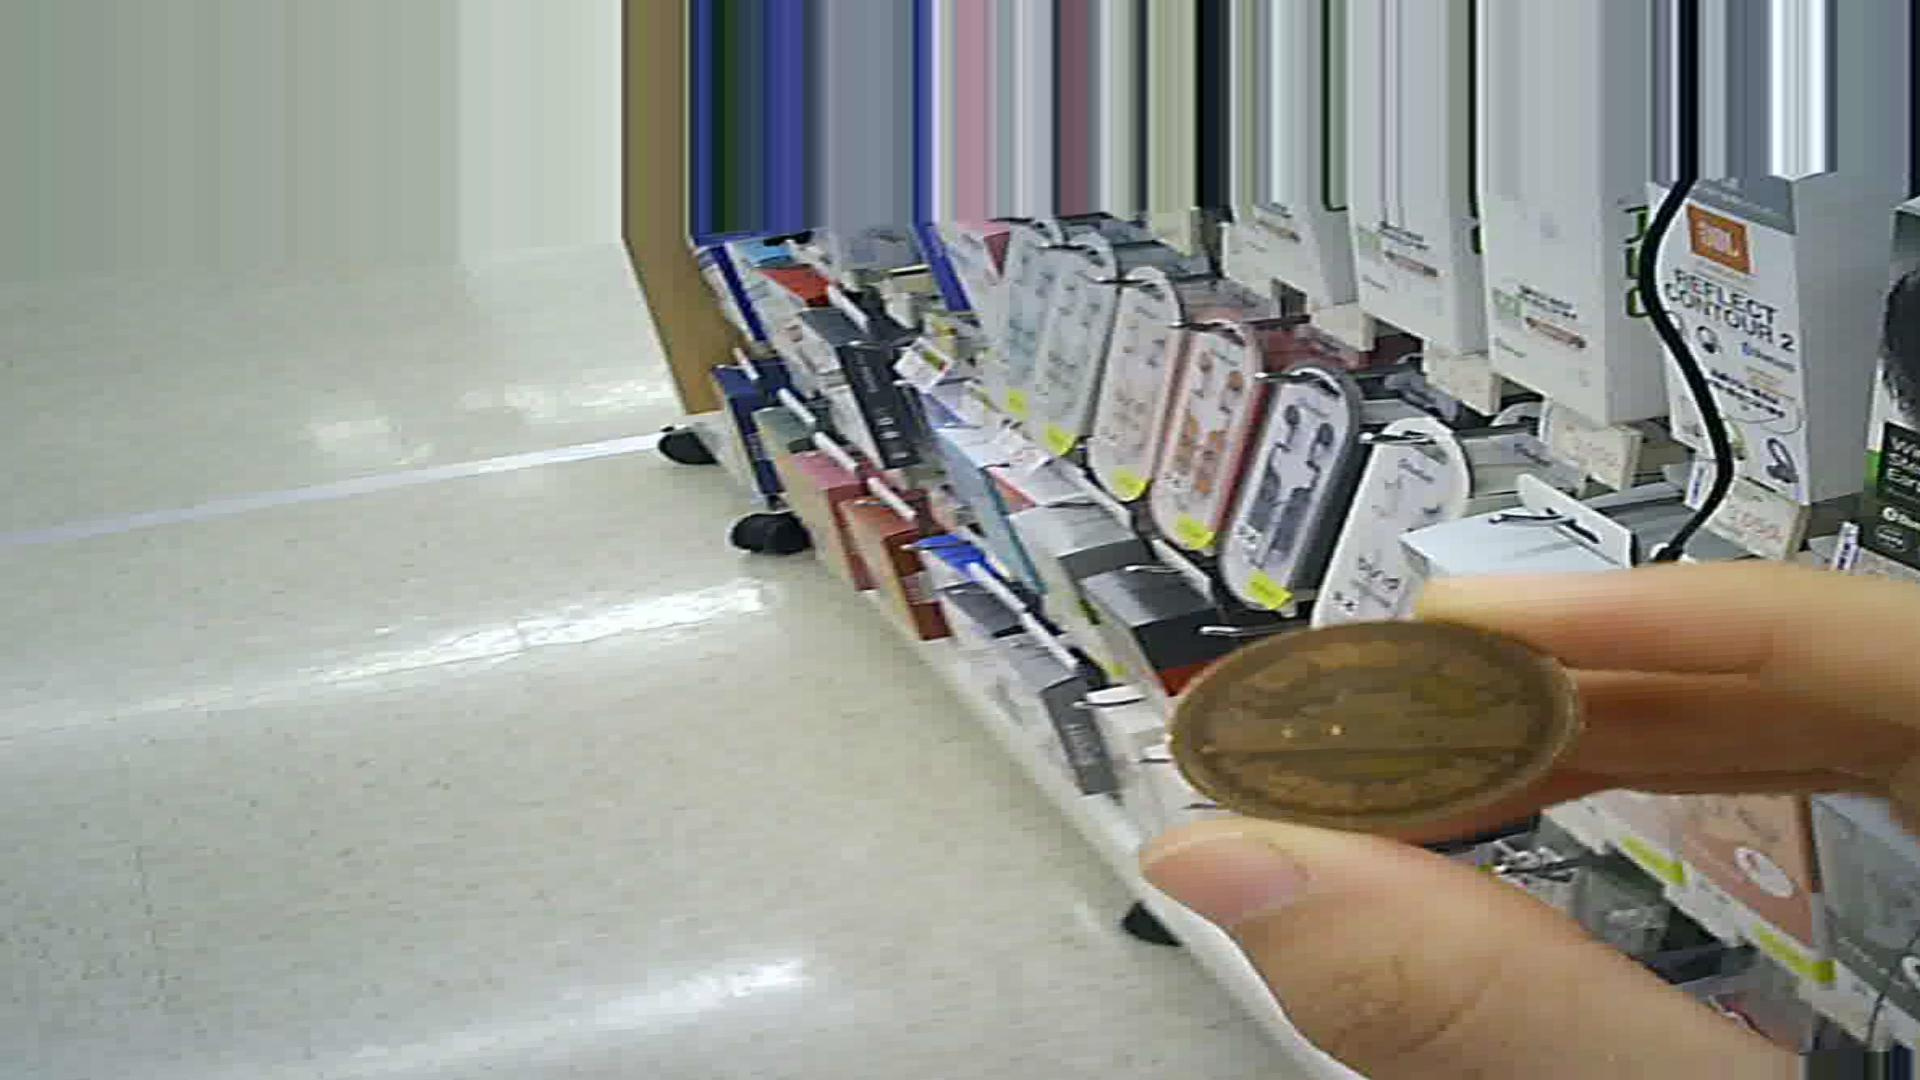10 Yen: (1164, 597, 1588, 835)
